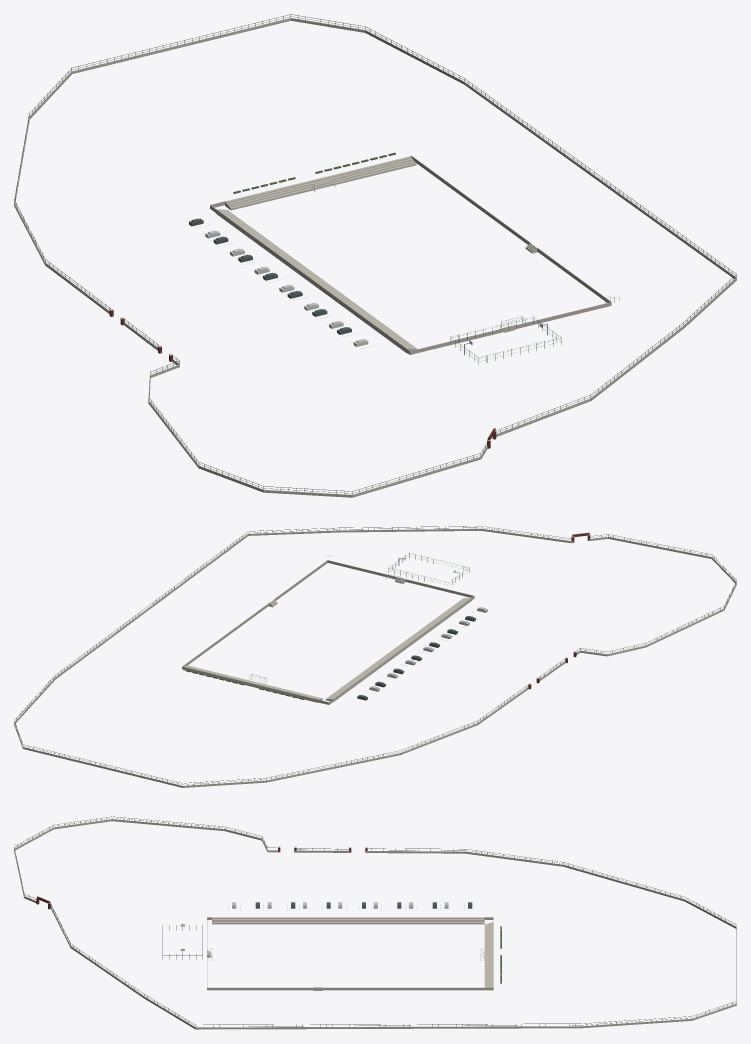
3 views of the same model, one above another, from view 1: azimuth 30°, elevation 25°; view 2: azimuth 150°, elevation 25°; view 3: azimuth 270°, elevation 25° (orthographic). The views are drawn at different scales.
Visible parts, largest first — view 1: site-wall-concrete, site-stand-concrete, site-fence; view 2: site-wall-concrete, site-stand-concrete, site-fence; view 3: site-wall-concrete, site-stand-concrete, site-fence.
Part boxes in pixels (x1,y1,x2,y2): site-wall-concrete: (14, 18, 736, 497); site-stand-concrete: (216, 156, 536, 353); site-fence: (14, 14, 736, 494); site-wall-concrete: (14, 528, 736, 787); site-stand-concrete: (183, 577, 471, 702); site-fence: (14, 526, 736, 784); site-wall-concrete: (14, 819, 736, 1029); site-stand-concrete: (207, 917, 493, 990); site-fence: (14, 816, 736, 1027).
Size of the model in its own units: 209 by 5.45 by 306.
